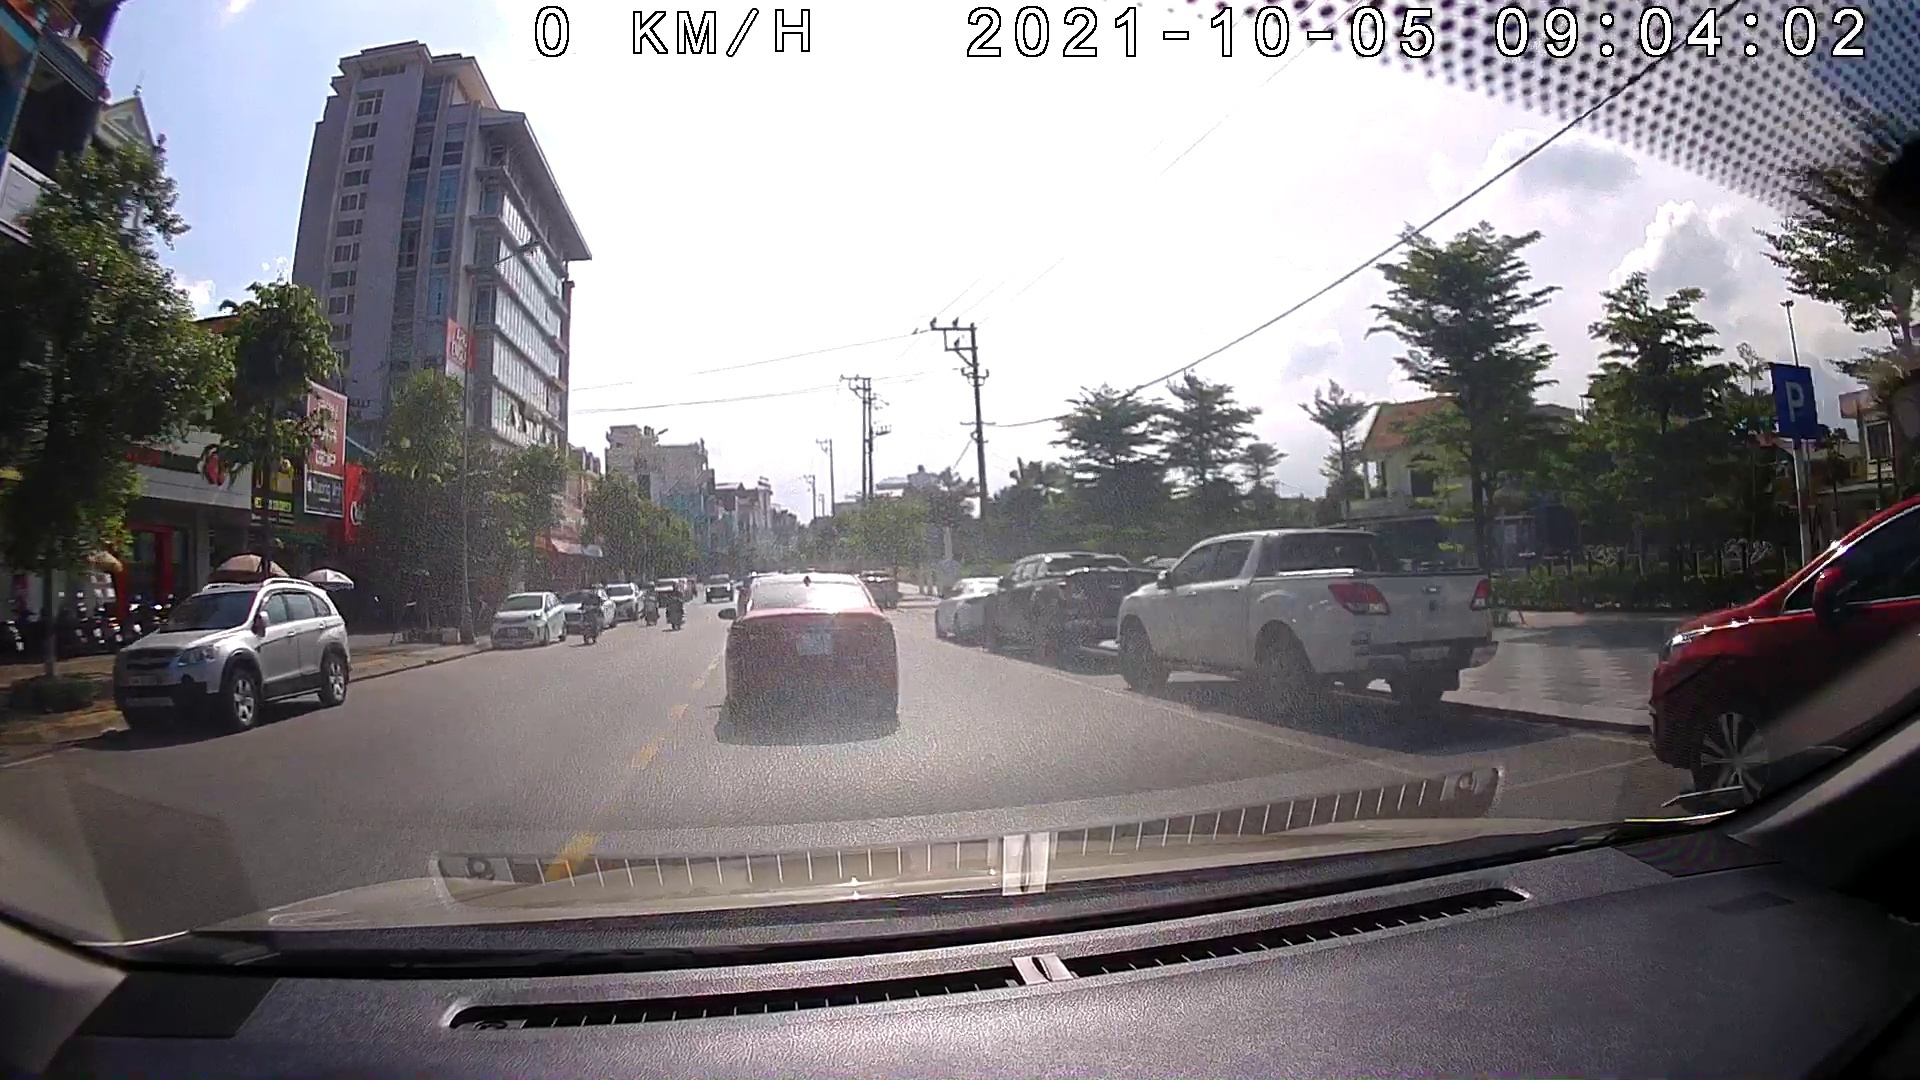Bien khac: (1768, 360, 1824, 442)
